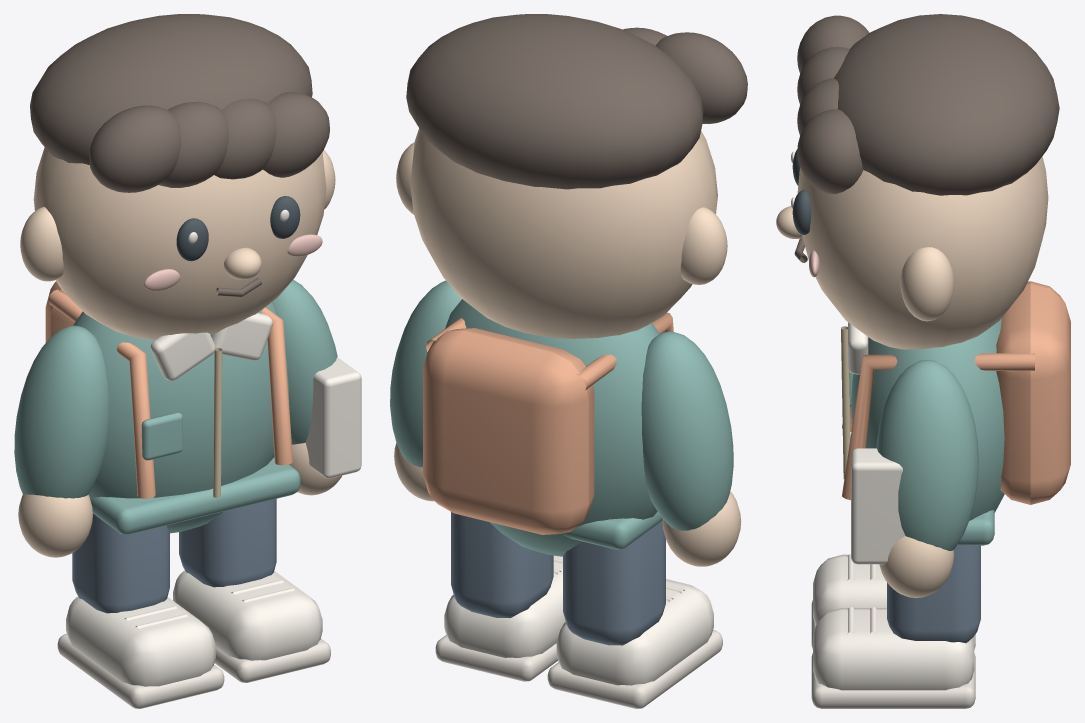
Rendered from student.fbx.
The picture shows the model from 3 angles, left to right: view 1: azimuth 30°, elevation 25°; view 2: azimuth 150°, elevation 25°; view 3: azimuth 270°, elevation 25°; orthographic projection. The views are drawn at different scales.
Visible parts, largest first — view 1: Body, WalkLeg_L, WalkLeg_R, WalkArm_L, WalkArm_R; view 2: Body, WalkLeg_L, WalkArm_L, WalkLeg_R, WalkArm_R; view 3: Body, WalkLeg_R, WalkArm_R, WalkLeg_L.
Part boxes in pixels (x1,y1,x2,y2): Body: (20, 14, 361, 534); WalkLeg_L: (57, 514, 224, 708); WalkLeg_R: (173, 499, 330, 682); WalkArm_L: (14, 325, 108, 557); WalkArm_R: (272, 279, 341, 495); Body: (396, 14, 747, 556); WalkLeg_L: (547, 520, 722, 708); WalkArm_L: (641, 331, 741, 566); WalkLeg_R: (435, 512, 565, 681); WalkArm_R: (390, 280, 461, 501); Body: (776, 14, 1070, 564); WalkLeg_R: (811, 544, 980, 708); WalkArm_R: (876, 360, 978, 597); WalkLeg_L: (811, 554, 975, 649).
Size of the model in its own units: 84 by 153 by 65.7.
